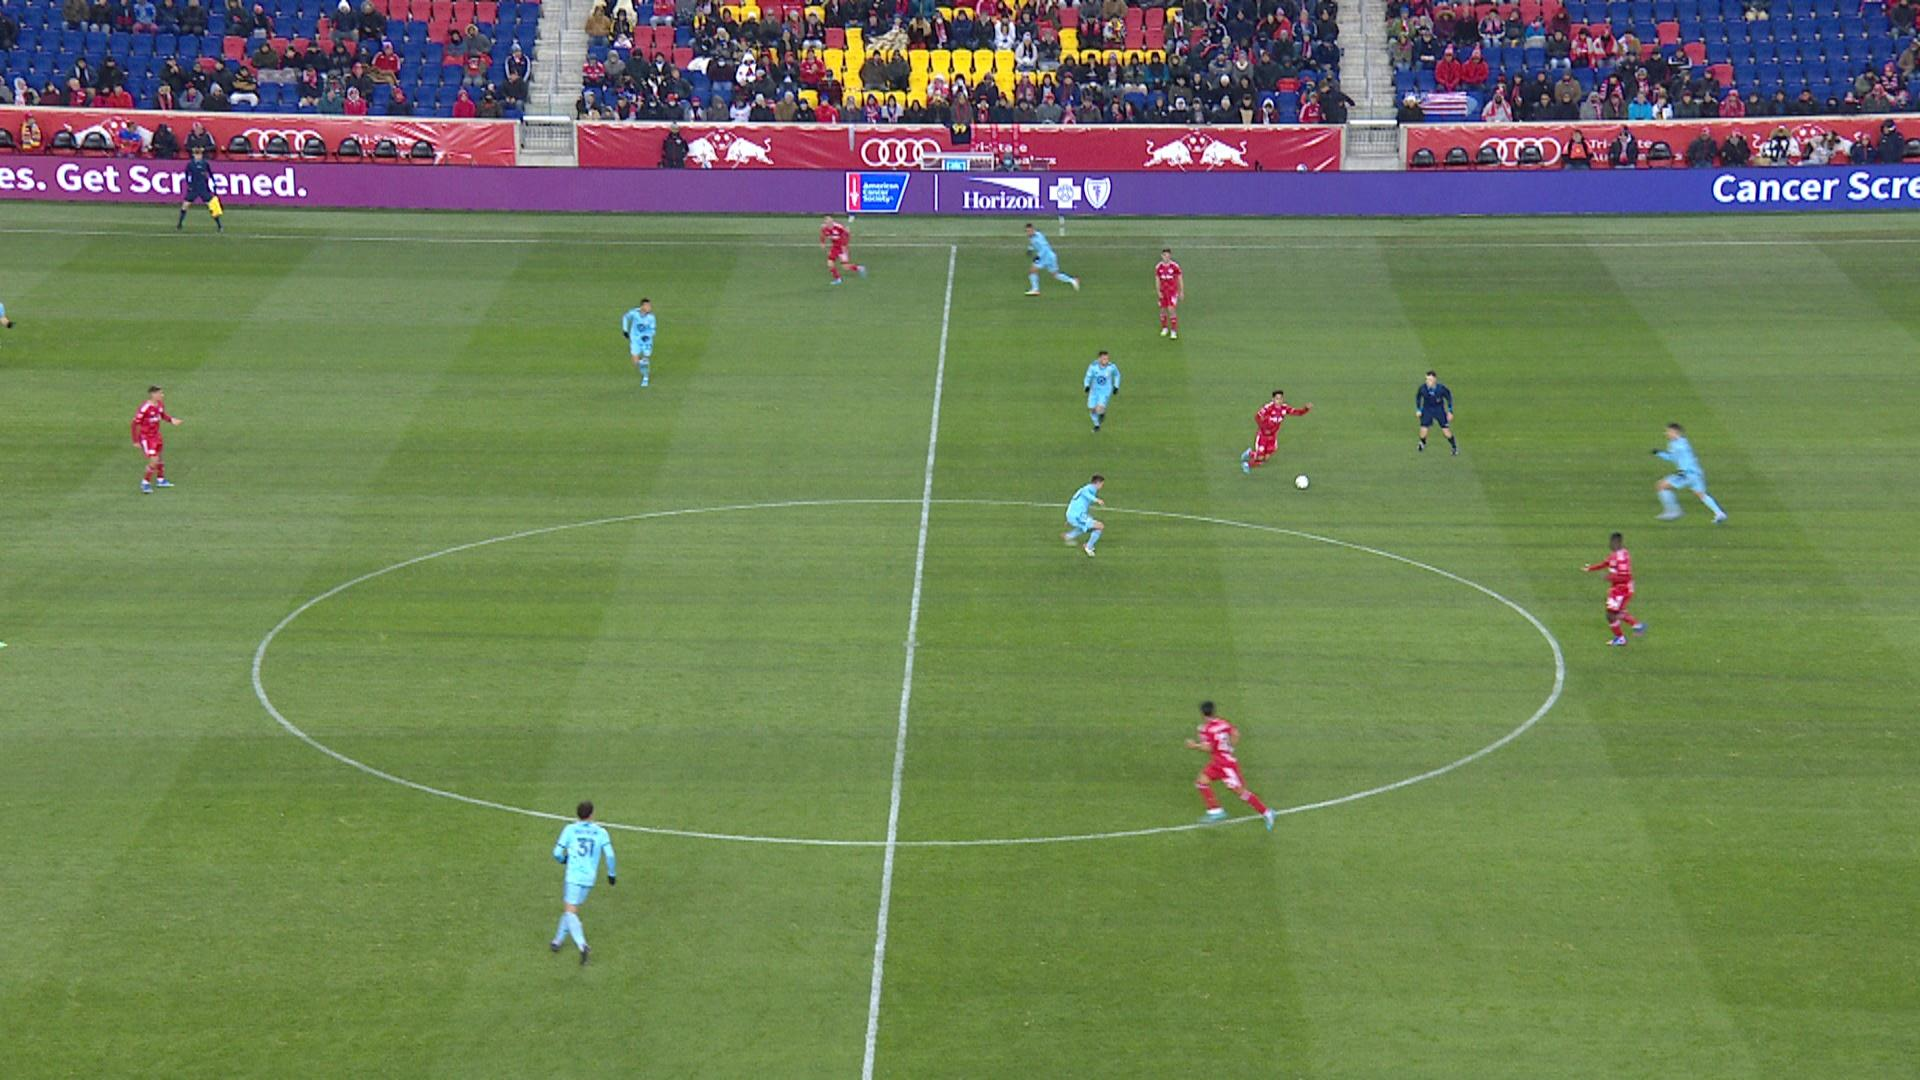football: (1294, 473, 1311, 491)
